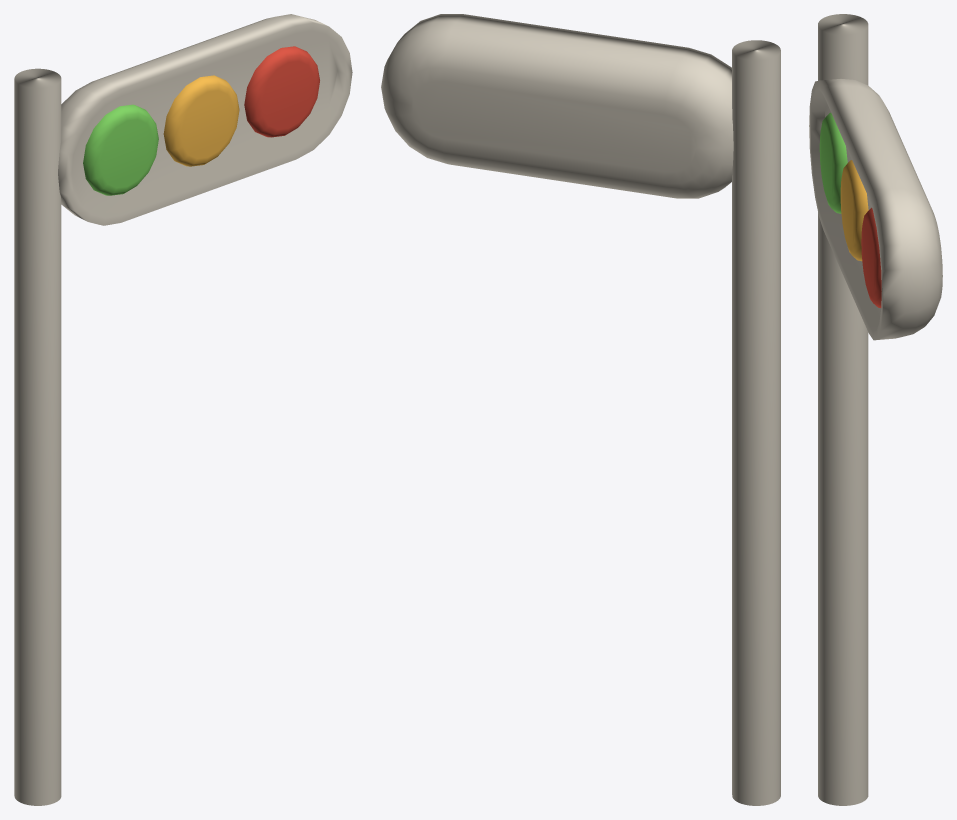
The model's file is 029_一方通行005.glb.
3 views of the same model, side by side, from view 1: azimuth 30°, elevation 25°; view 2: azimuth 150°, elevation 25°; view 3: azimuth 270°, elevation 25° (orthographic). The views are drawn at different scales.
Visible parts, largest first — view 1: 円柱007, 円柱007_1, 円柱007_3, 円柱007_2; view 2: 円柱007; view 3: 円柱007, 円柱007_2, 円柱007_3, 円柱007_1.
Boxes of the visible parts, <box> form: 円柱007: <box>14,14,352,805</box>; 円柱007_1: <box>244,46,319,137</box>; 円柱007_3: <box>83,104,158,195</box>; 円柱007_2: <box>163,75,239,166</box>; 円柱007: <box>381,14,780,805</box>; 円柱007: <box>809,14,942,805</box>; 円柱007_2: <box>840,160,868,261</box>; 円柱007_3: <box>819,112,847,213</box>; 円柱007_1: <box>861,207,881,307</box>.
Size of the model in its own units: 1.65 by 3.2 by 0.5028.
